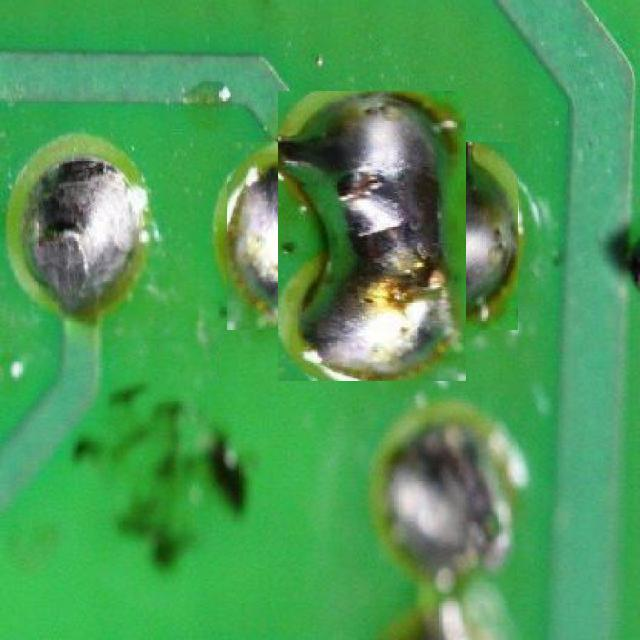Short_circuit: (253, 116, 492, 356)
